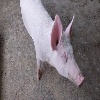heo: (34, 13, 86, 87)
